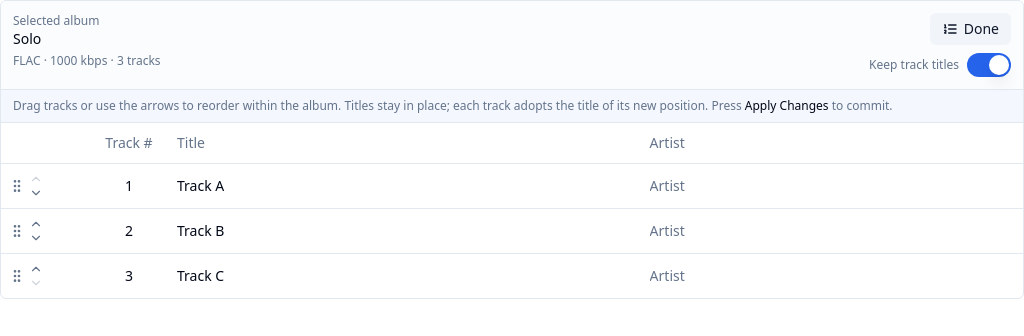
Test case: LibraryItemsTable reorder mode › reassigns titles to their slot when keep titles is on
The image size is (1024, 336).
Click the button named "Move Track A down". click: (36, 192)
box: [29, 186, 43, 200]
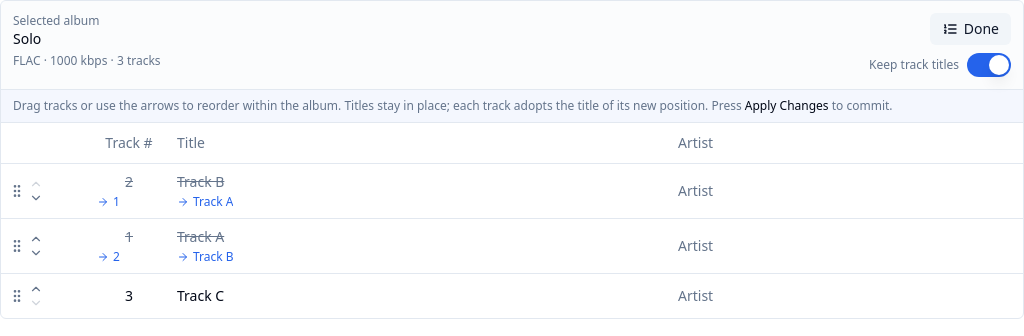
Now the 2nd text "Track B" is shown, box [193, 248, 234, 264]
